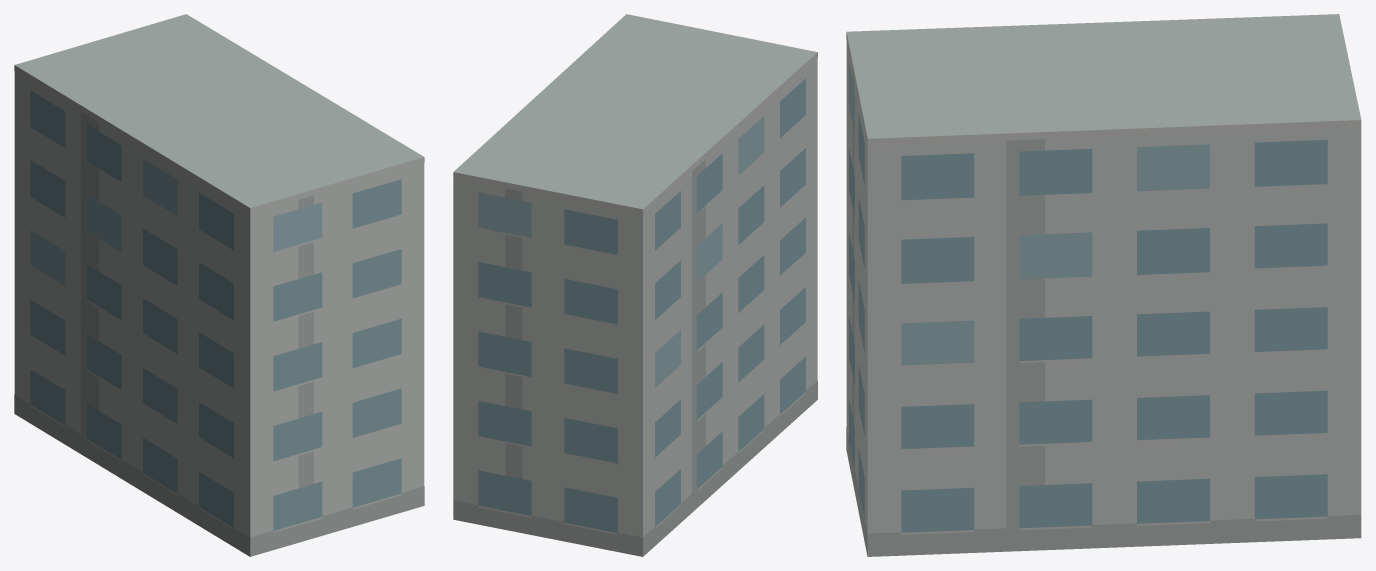
Rendered from survey-upis-32990009.glb.
The picture shows the model from 3 angles, left to right: view 1: azimuth 30°, elevation 25°; view 2: azimuth 150°, elevation 25°; view 3: azimuth 270°, elevation 25°; orthographic projection. The views are drawn at different scales.
Visible parts, largest first — view 1: survey-upis-32990009.tmp; view 2: survey-upis-32990009.tmp; view 3: survey-upis-32990009.tmp.
Boxes of the visible parts, box(x1,y1,x2,y2) form: survey-upis-32990009.tmp: box(14, 14, 424, 556); survey-upis-32990009.tmp: box(453, 14, 817, 556); survey-upis-32990009.tmp: box(846, 14, 1361, 556).
Bounding box in the file's own units: 9.1 × 14.2 × 15.86.
